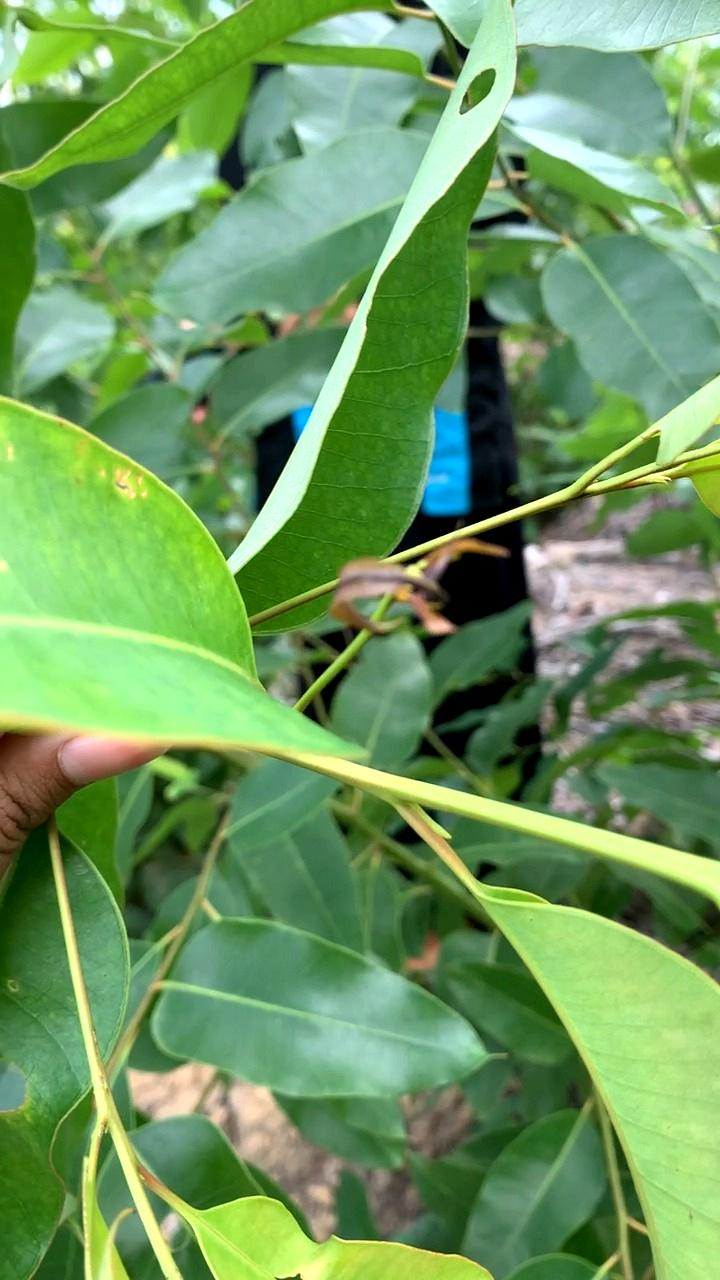Helopeltis-Withered Sprout: (323, 518, 521, 667)
